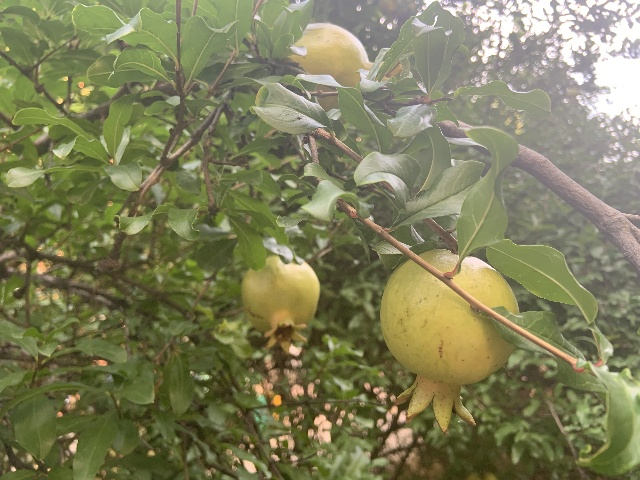mid-growth: (380, 250, 519, 435), (285, 22, 402, 123), (240, 255, 320, 354)
